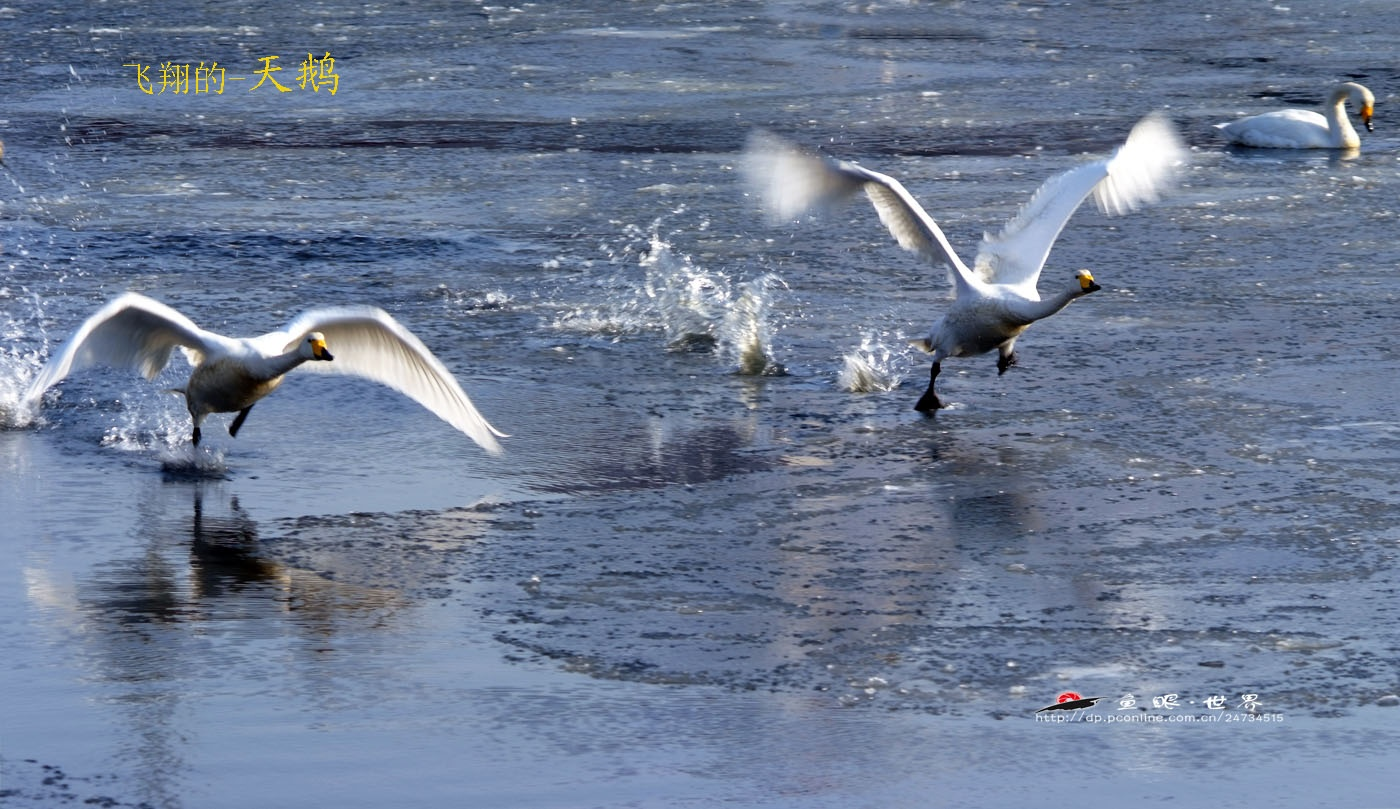bird: (731, 116, 1196, 421), (17, 298, 506, 458), (1217, 78, 1391, 155)
